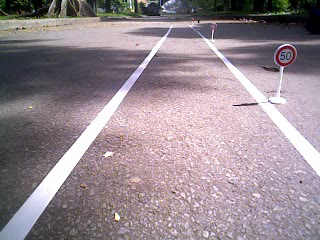limit 50: (272, 43, 298, 70)
